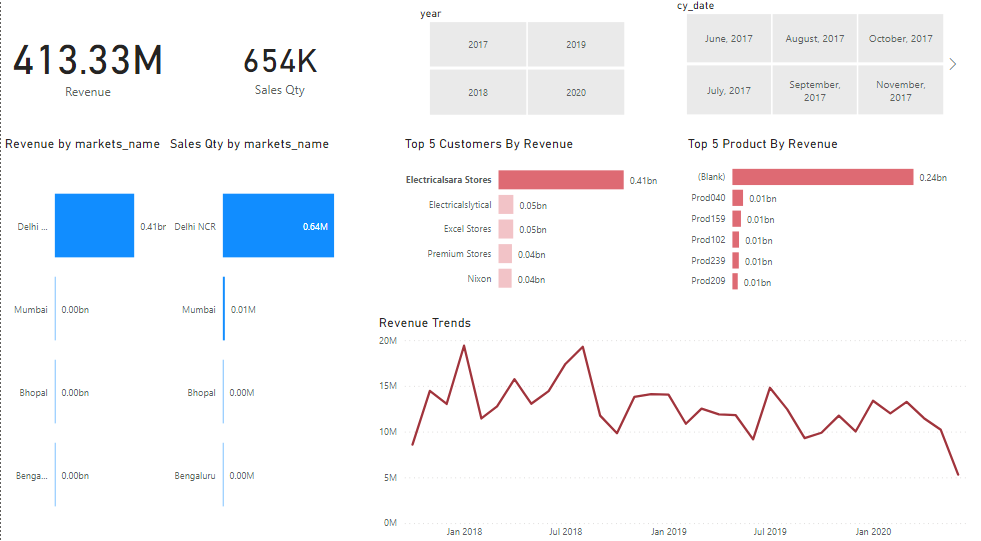

Layout of this report page (visuals, bound fields, positions):
{"tool":"powerbi","page":{"name":"Page 1","canvas":[1280,720],"ordinal":0},"visuals":[{"type":"card","fields":{"Values":["BaseMeasures.Sales Qty"]},"box":[238.5,0,250.3,183.1],"z":0},{"type":"card","fields":{"Values":["BaseMeasures.Revenue"]},"box":[0,0,226.8,174.7],"z":1000},{"type":"barChart","fields":{"Y":["BaseMeasures.Revenue"],"Category":["sales markets.markets_name"]},"box":[0,184.8,226.8,535.9],"z":2000},{"type":"slicer","fields":{"Values":["sales date.year"]},"box":[534.2,10.1,304,152.9],"z":3000},{"type":"slicer","fields":{"Values":["sales date.cy_date"]},"box":[870.1,0,384.7,162.9],"z":4000},{"type":"barChart","fields":{"Y":["BaseMeasures.Sales Qty"],"Category":["sales markets.markets_name"]},"box":[215,184.8,262,535.9],"z":5000},{"type":"barChart","title":"Top 5 Customers By Revenue","fields":{"Y":["BaseMeasures.Revenue"],"Category":["sales customers.custmer_name"]},"box":[522.4,184.8,369.6,216.7],"z":6000},{"type":"barChart","title":"Top 5 Product By Revenue","fields":{"Y":["BaseMeasures.Revenue"],"Category":["sales products.product_code"]},"box":[892,184.8,362.8,216.7],"z":7000},{"type":"lineChart","title":"Revenue Trends","fields":{"Y":["BaseMeasures.Revenue"],"Category":["sales date.cy_date.Variation.Date Hierarchy.Year","sales date.cy_date.Variation.Date Hierarchy.Month"]},"box":[488.8,418.3,791.2,302.4],"z":8000}]}

Visuals, with their boxes in screenshot pixels (x1, y1, x2, y2), scaled from the page's 1280x720 canvas onto the 981x541 screenshot:
card - BaseMeasures.Sales Qty: detection(183, 0, 375, 138)
card - BaseMeasures.Revenue: detection(0, 0, 174, 131)
barChart - BaseMeasures.Revenue x sales markets.markets_name: detection(0, 139, 174, 540)
slicer - sales date.year: detection(409, 8, 642, 122)
slicer - sales date.cy_date: detection(667, 0, 962, 122)
barChart - BaseMeasures.Sales Qty x sales markets.markets_name: detection(165, 139, 366, 540)
"Top 5 Customers By Revenue" barChart: detection(400, 139, 684, 302)
"Top 5 Product By Revenue" barChart: detection(684, 139, 962, 302)
"Revenue Trends" lineChart: detection(375, 314, 980, 540)
